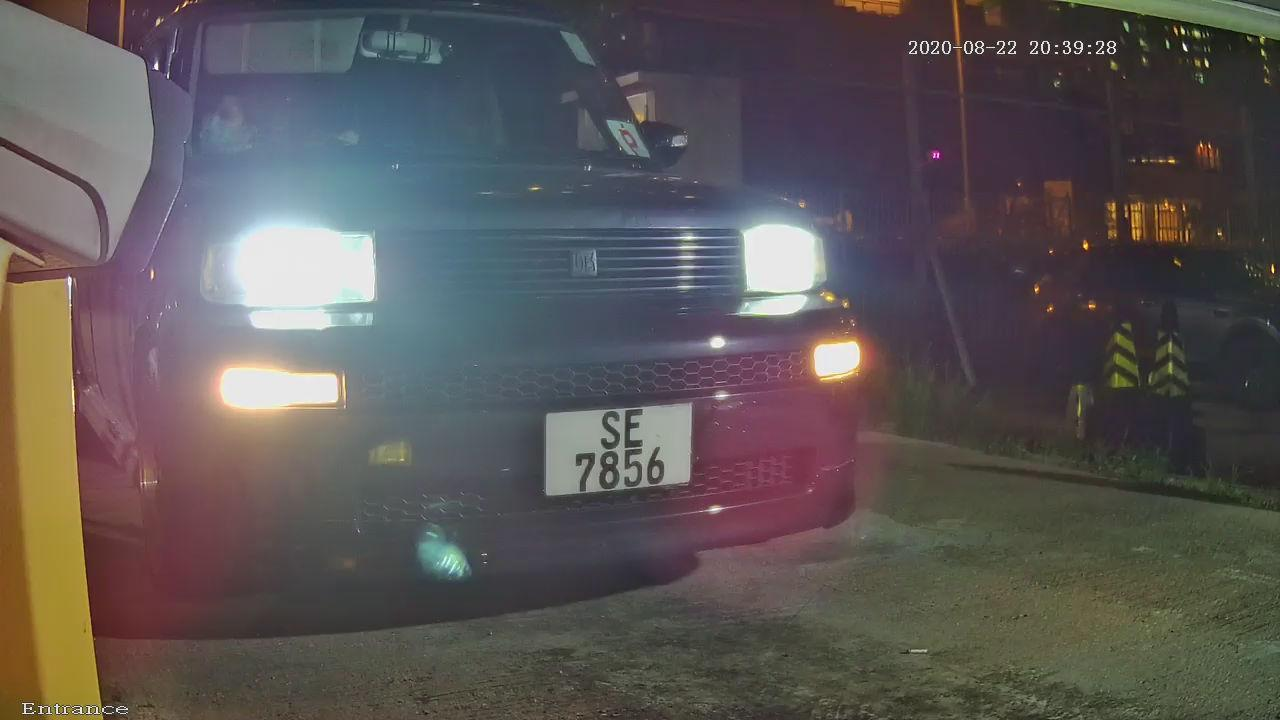Car: (23, 10, 955, 634)
License Plate: (521, 393, 703, 512)
